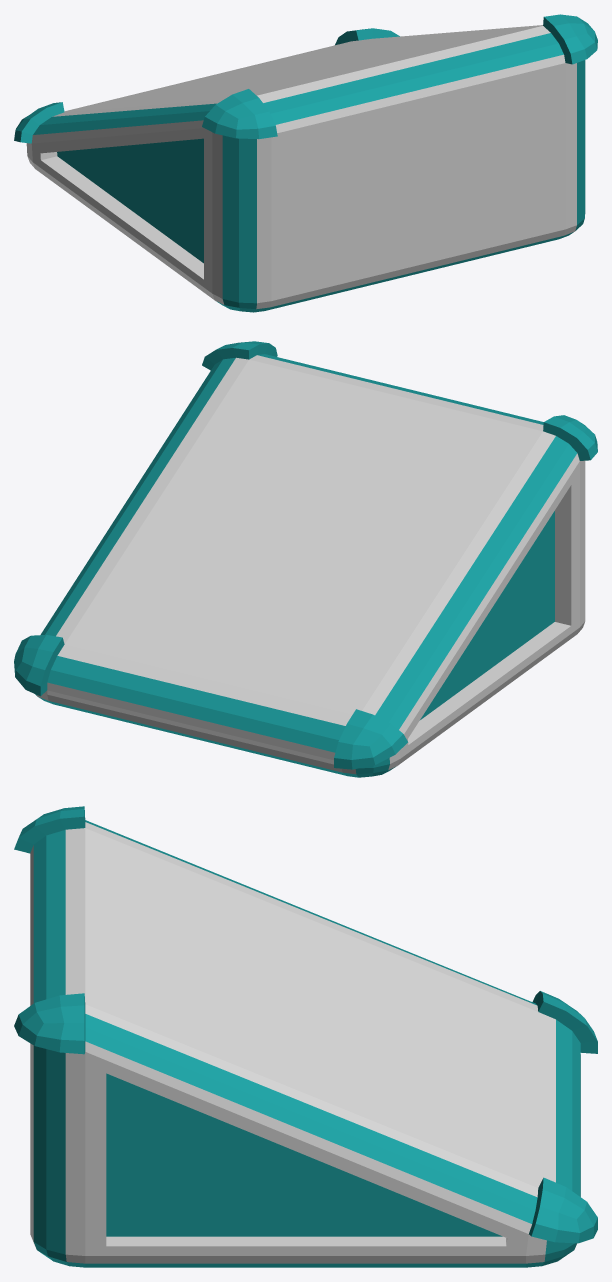
File: trumplin.fbx
The picture shows the model from 3 angles, top to bottom: view 1: azimuth 30°, elevation 25°; view 2: azimuth 150°, elevation 25°; view 3: azimuth 270°, elevation 25°; orthographic projection. The views are drawn at different scales.
Parts seen in each view (by area): view 1: trumplin; view 2: trumplin; view 3: trumplin.
Boxes of the visible parts, box(x1,y1,x2,y2) form: trumplin: box(14, 14, 597, 312); trumplin: box(14, 341, 597, 777); trumplin: box(14, 806, 597, 1267).
Bounding box in the file's own units: 200 × 107 × 212.
